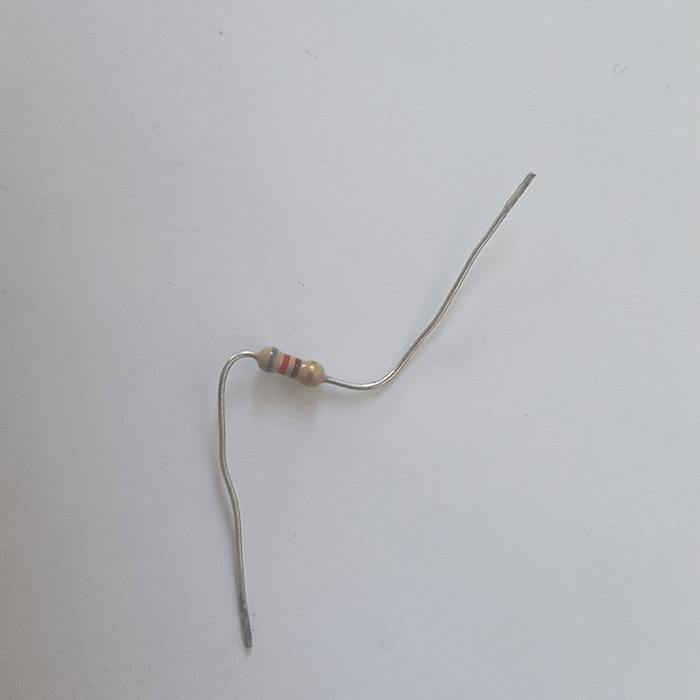resistor: (254, 344, 327, 387)
